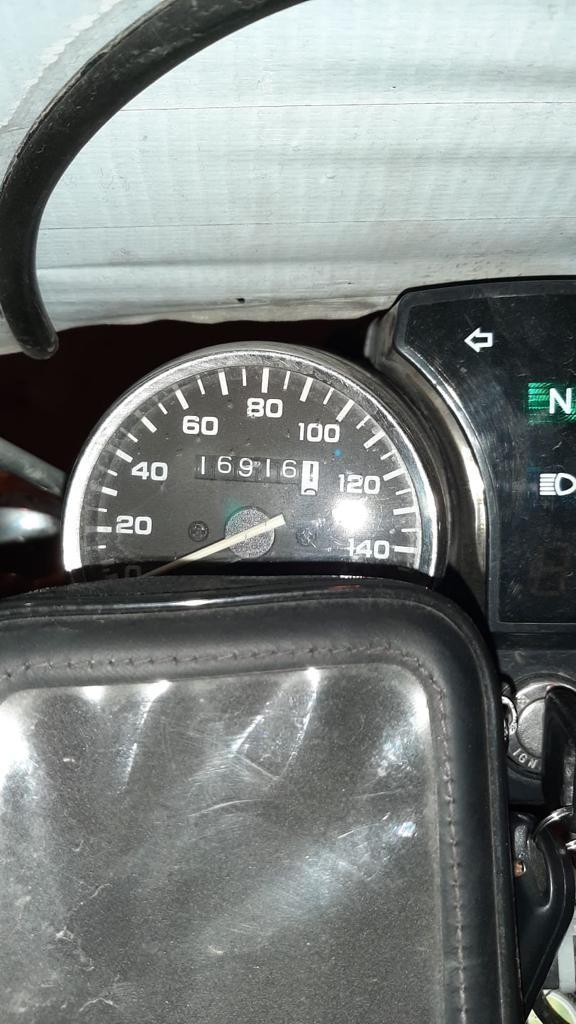1: (264, 457, 271, 478), (308, 462, 314, 483), (200, 455, 206, 475)
6: (281, 459, 297, 478), (216, 455, 232, 473)
9: (238, 457, 252, 477)
odometer: (193, 452, 319, 496)
